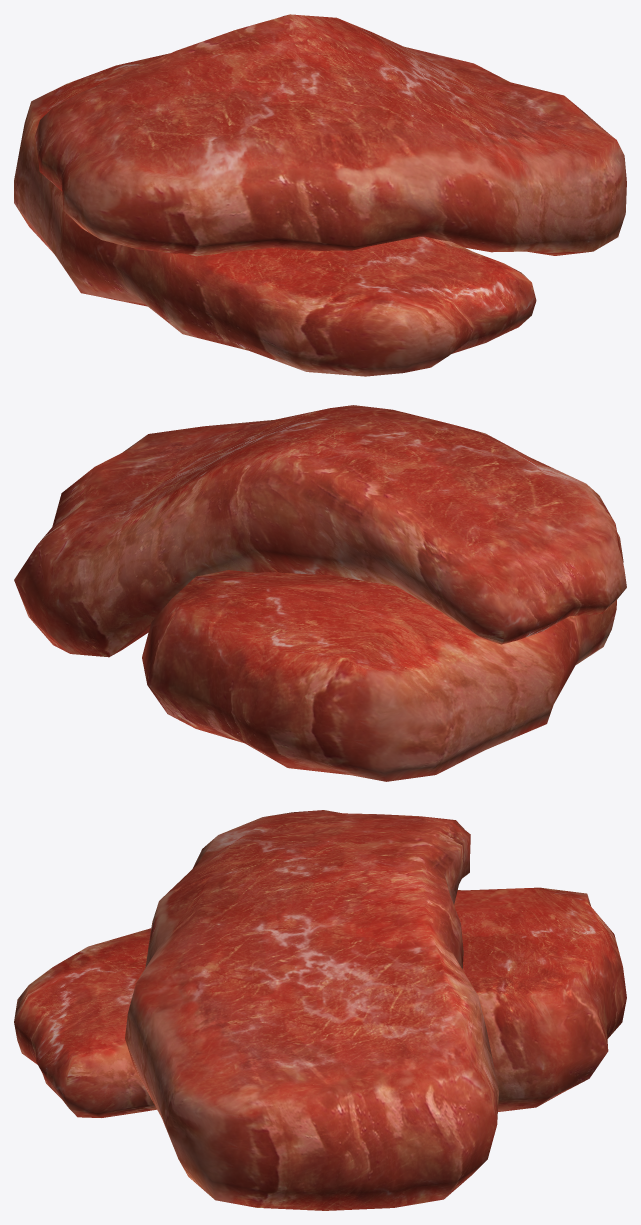
File: SteakPairRaw.fbx
The picture shows the model from 3 angles, top to bottom: view 1: azimuth 30°, elevation 25°; view 2: azimuth 150°, elevation 25°; view 3: azimuth 270°, elevation 25°; orthographic projection. The views are drawn at different scales.
Parts seen in each view (by area): view 1: Default_Layer; view 2: Default_Layer; view 3: Default_Layer.
Part boxes in pixels (x1,y1,x2,y2): Default_Layer: [14, 14, 626, 376]; Default_Layer: [14, 405, 626, 781]; Default_Layer: [14, 810, 626, 1210].
Bounding box in the file's own units: 40.41 × 16.82 × 40.28.
